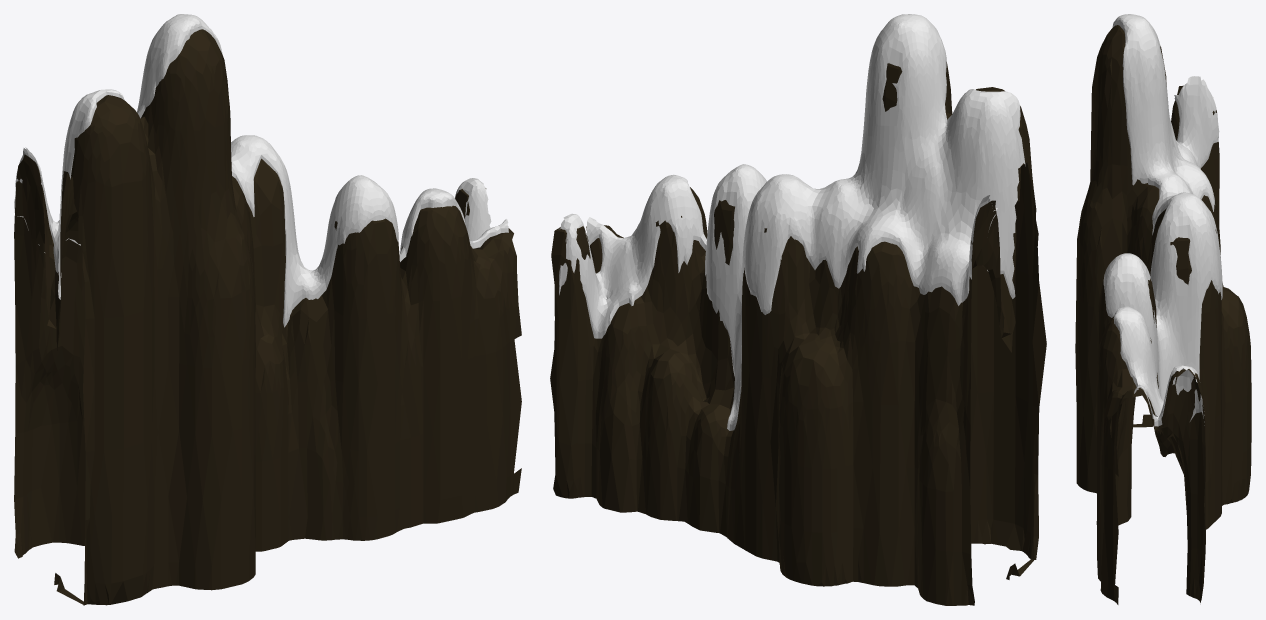
File: Mtn_Wall_W2_M.fbx
3 views of the same model, side by side, from view 1: azimuth 30°, elevation 25°; view 2: azimuth 150°, elevation 25°; view 3: azimuth 270°, elevation 25° (orthographic). The views are drawn at different scales.
Visible parts, largest first — view 1: Mtn_Wall_W2_M; view 2: Mtn_Wall_W2_M; view 3: Mtn_Wall_W2_M.
Part boxes in pixels (x1,y1,x2,y2): Mtn_Wall_W2_M: (14,14,521,605); Mtn_Wall_W2_M: (550,14,1046,605); Mtn_Wall_W2_M: (1075,14,1251,604).
Size of the model in its own units: 23658 by 27369 by 9575.
